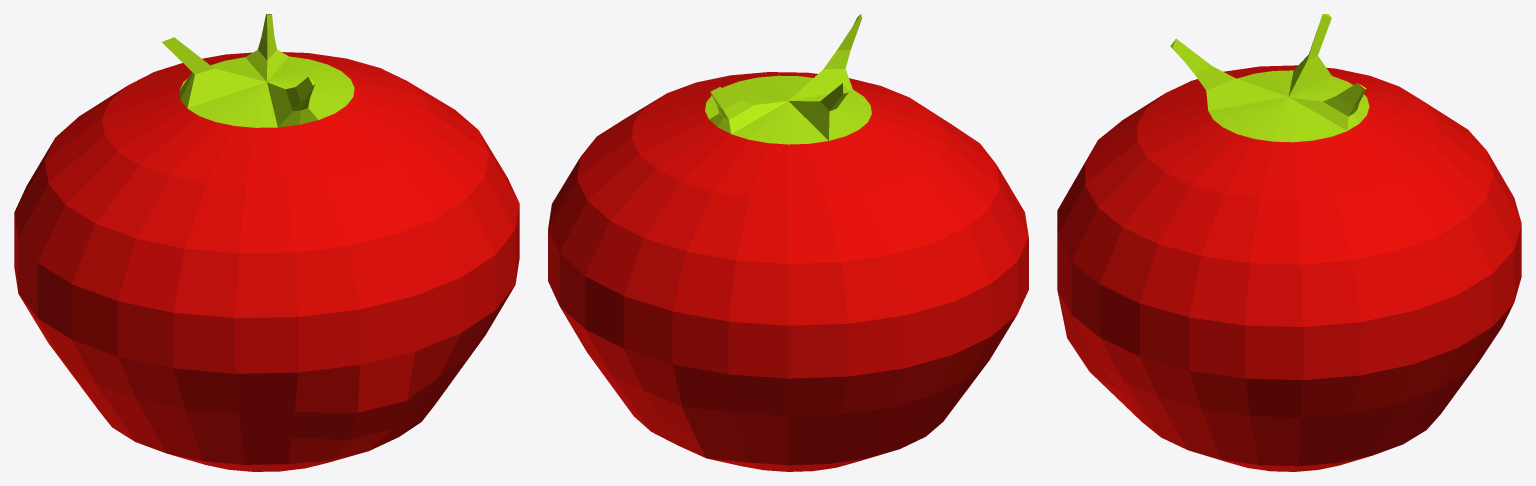
File: Tomato.fbx
3 renders of one model, left to right at view 1: azimuth 30°, elevation 25°; view 2: azimuth 150°, elevation 25°; view 3: azimuth 270°, elevation 25°, orthographic. The views are drawn at different scales.
Visible parts, largest first — view 1: Сфера.001; view 2: Сфера.001; view 3: Сфера.001.
Boxes of the visible parts, box(x1,y1,x2,y2) form: Сфера.001: box(14, 14, 519, 471); Сфера.001: box(548, 14, 1028, 471); Сфера.001: box(1057, 14, 1521, 471).
Size of the model in its own units: 481 by 434 by 456.
